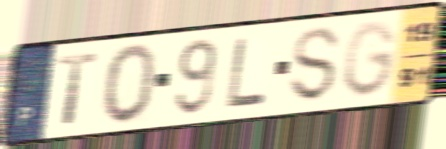9: (173, 37, 219, 118)
G: (342, 18, 399, 101)
L: (224, 35, 270, 111)
O: (101, 40, 159, 128)
S: (288, 25, 342, 105)
T: (56, 50, 100, 127)
